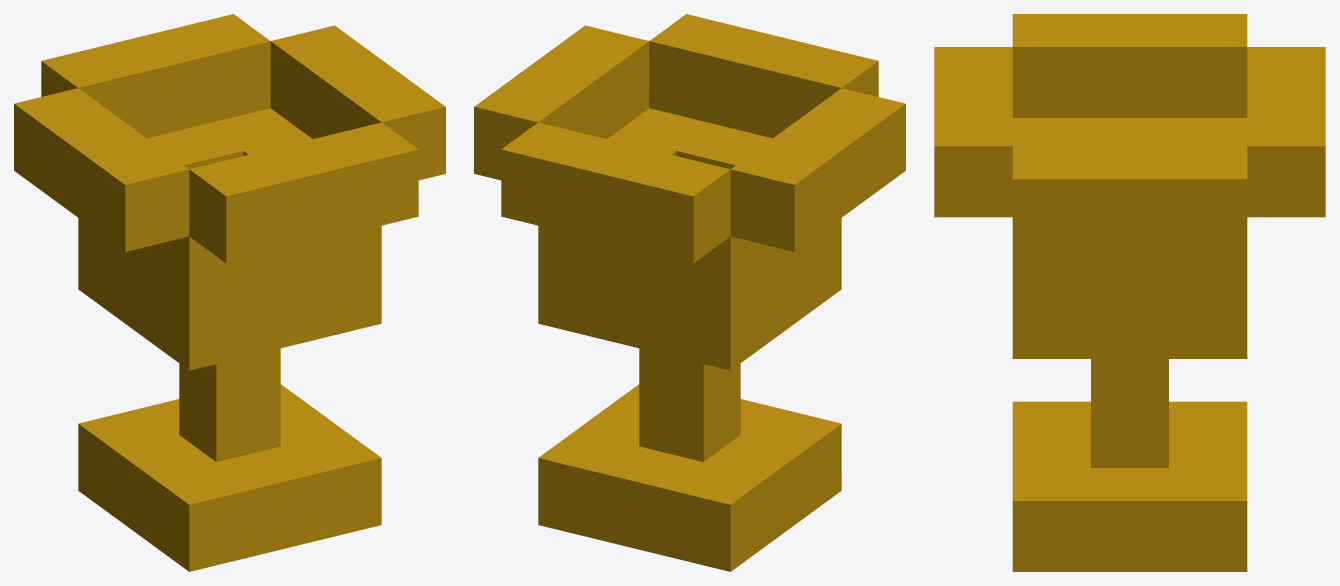
File: Calice.obj
3 renders of one model, left to right at view 1: azimuth 30°, elevation 25°; view 2: azimuth 150°, elevation 25°; view 3: azimuth 270°, elevation 25°, orthographic. The views are drawn at different scales.
Bounding box in the file's own units: 0.5 × 0.6 × 0.5.
1 material, 1 textured.
